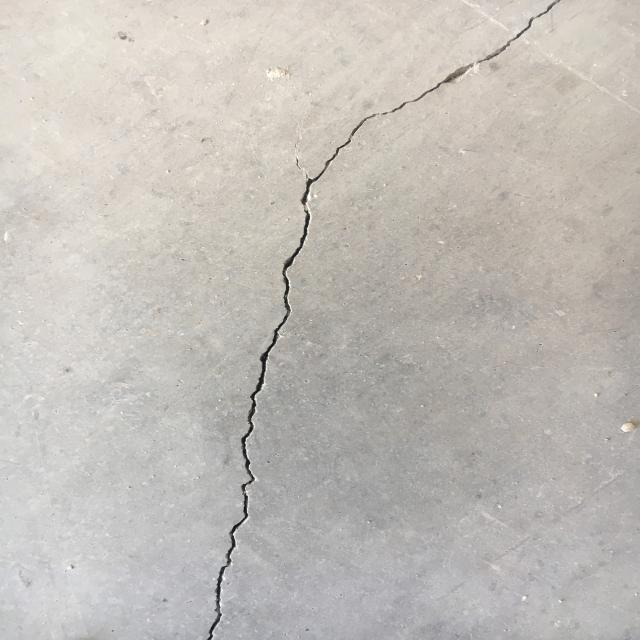Rachadura: (207, 0, 560, 640)
